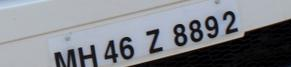2: (220, 9, 238, 34)
4: (101, 38, 118, 62)
6: (117, 35, 134, 59)
8: (170, 22, 187, 46), (186, 18, 203, 42)
9: (202, 14, 219, 38)
H: (75, 44, 98, 66)
M: (52, 48, 75, 66)
Z: (143, 27, 164, 54)
